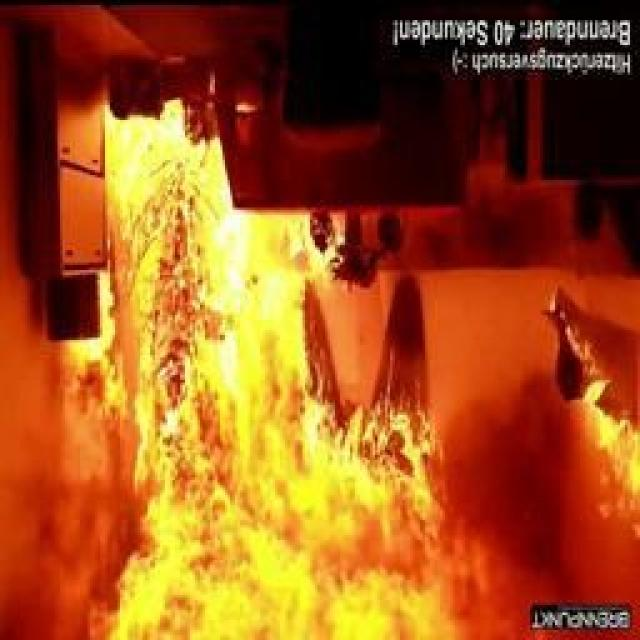fire: (25, 190, 620, 638)
